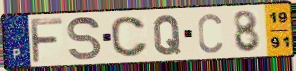8: (232, 9, 263, 54)
C: (109, 15, 150, 58), (196, 12, 224, 55)
F: (28, 17, 65, 65)
Q: (152, 13, 182, 56)
S: (66, 15, 104, 62)
